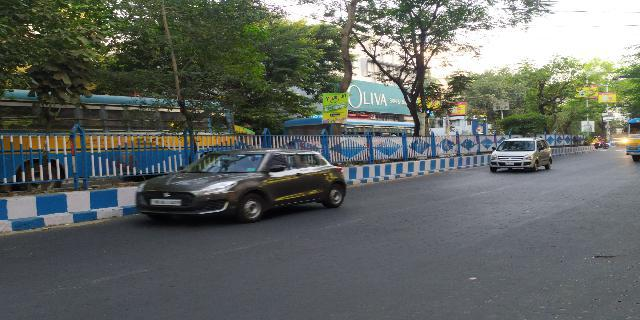Car: (120, 142, 346, 223), (483, 133, 555, 173)
